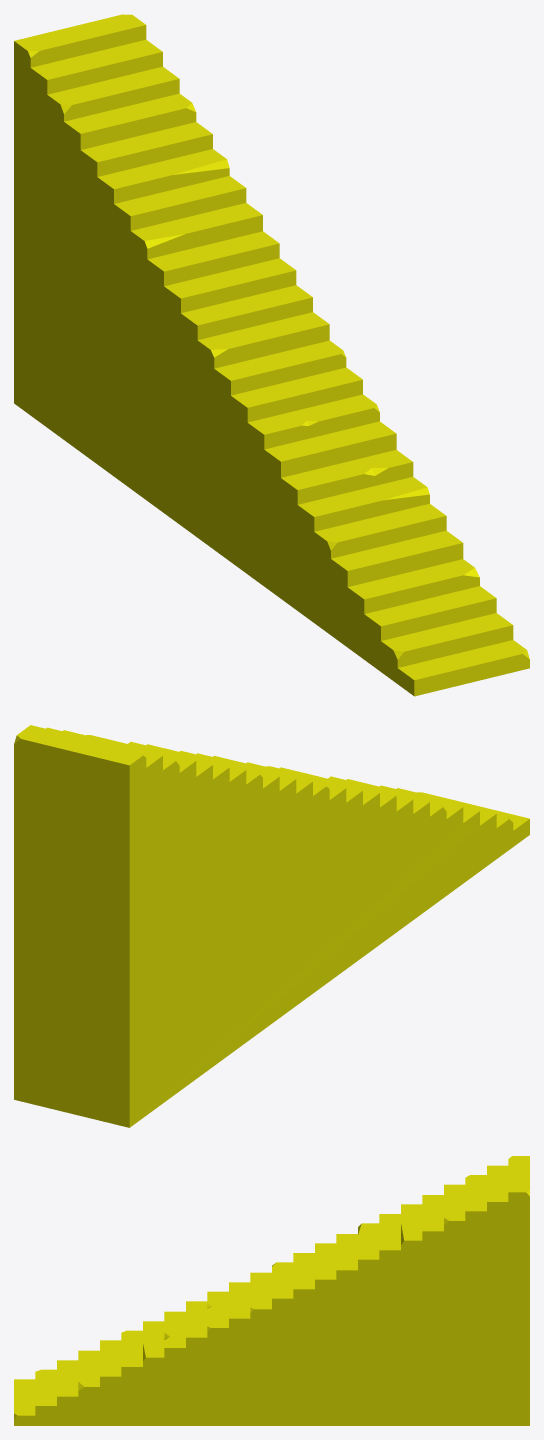
File: SM_PolygonPrototype_Buildings_Stairs_1x3_01P.glb
The picture shows the model from 3 angles, top to bottom: view 1: azimuth 30°, elevation 25°; view 2: azimuth 150°, elevation 25°; view 3: azimuth 270°, elevation 25°; orthographic projection. The views are drawn at different scales.
Parts seen in each view (by area): view 1: SM_PolygonPrototype_Buildings_Stairs_1x3_01P; view 2: SM_PolygonPrototype_Buildings_Stairs_1x3_01P; view 3: SM_PolygonPrototype_Buildings_Stairs_1x3_01P.
Boxes of the visible parts, left/top/right/bottom form: SM_PolygonPrototype_Buildings_Stairs_1x3_01P: left=14, top=14, right=529, bottom=696; SM_PolygonPrototype_Buildings_Stairs_1x3_01P: left=14, top=725, right=529, bottom=1127; SM_PolygonPrototype_Buildings_Stairs_1x3_01P: left=14, top=1156, right=529, bottom=1425.
Size of the model in its own units: 1 by 3 by 6.
1 material, 1 textured.
